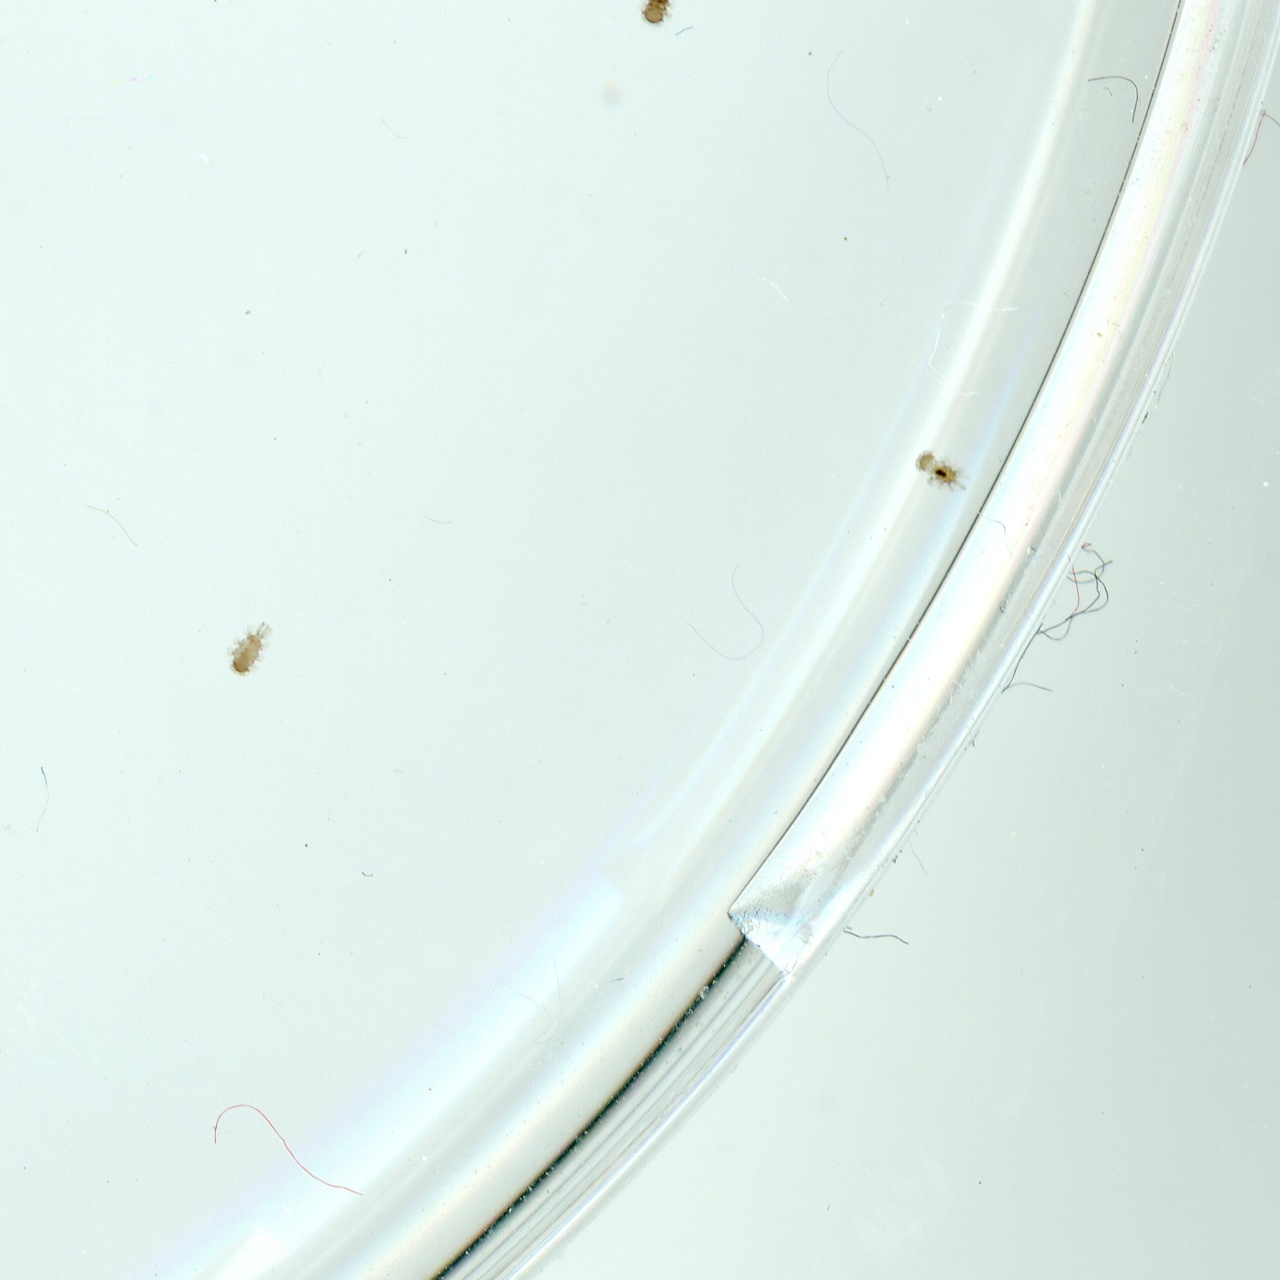arthropod: (914, 447, 965, 497), (230, 621, 273, 673), (640, 0, 674, 28)
